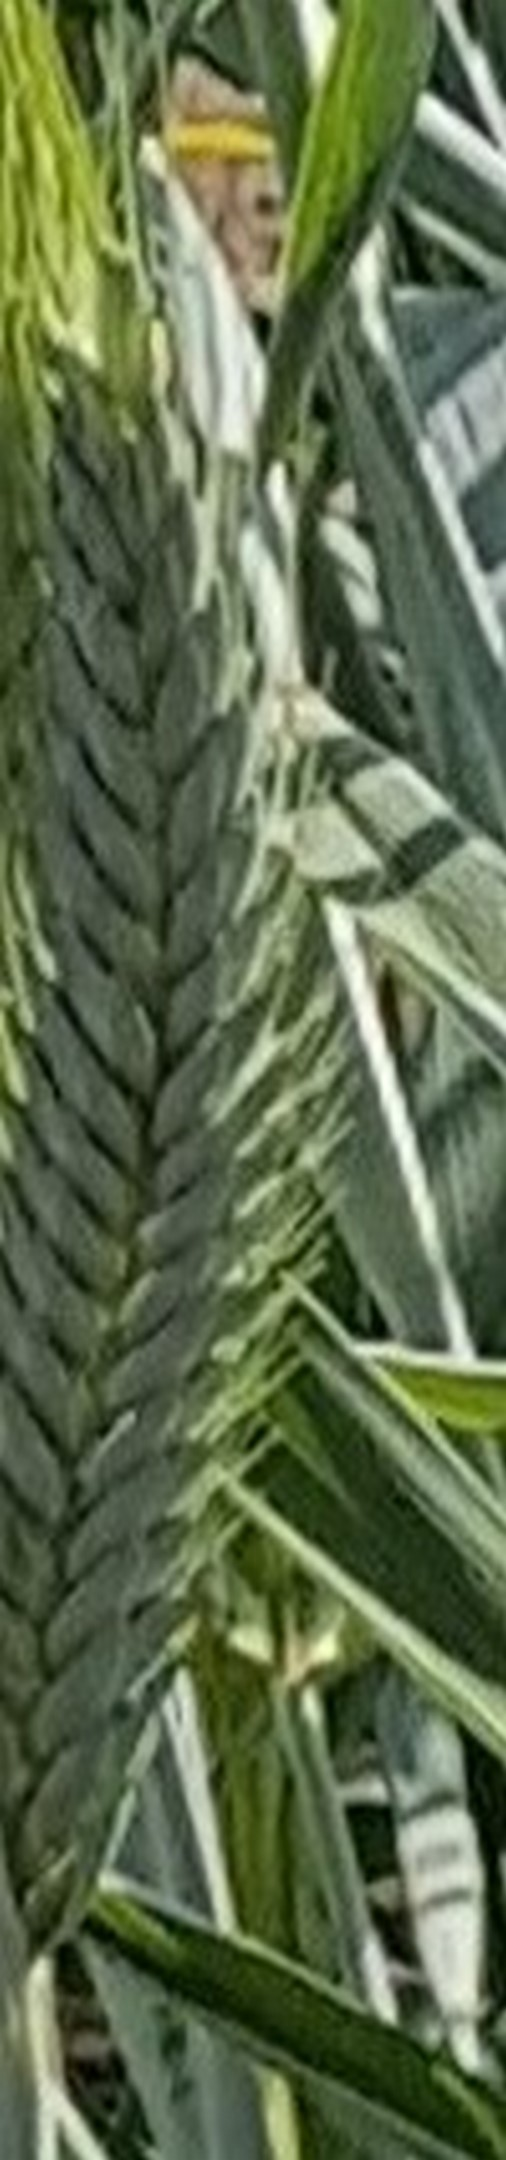Healthy Wheat: (1, 342, 312, 1911)
